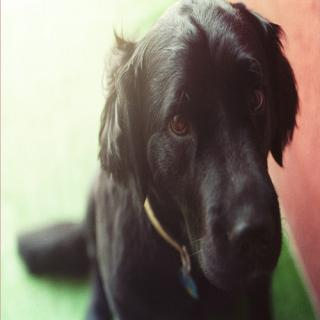dog: (99, 1, 303, 307)
